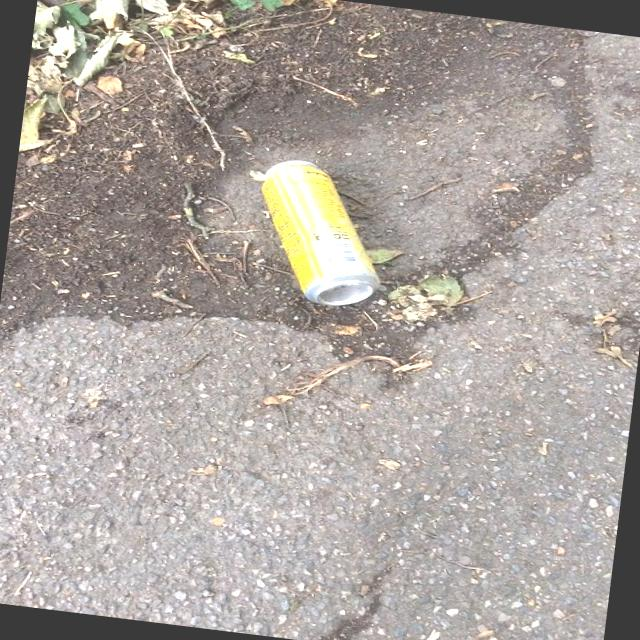Recycle: (247, 154, 396, 312)
